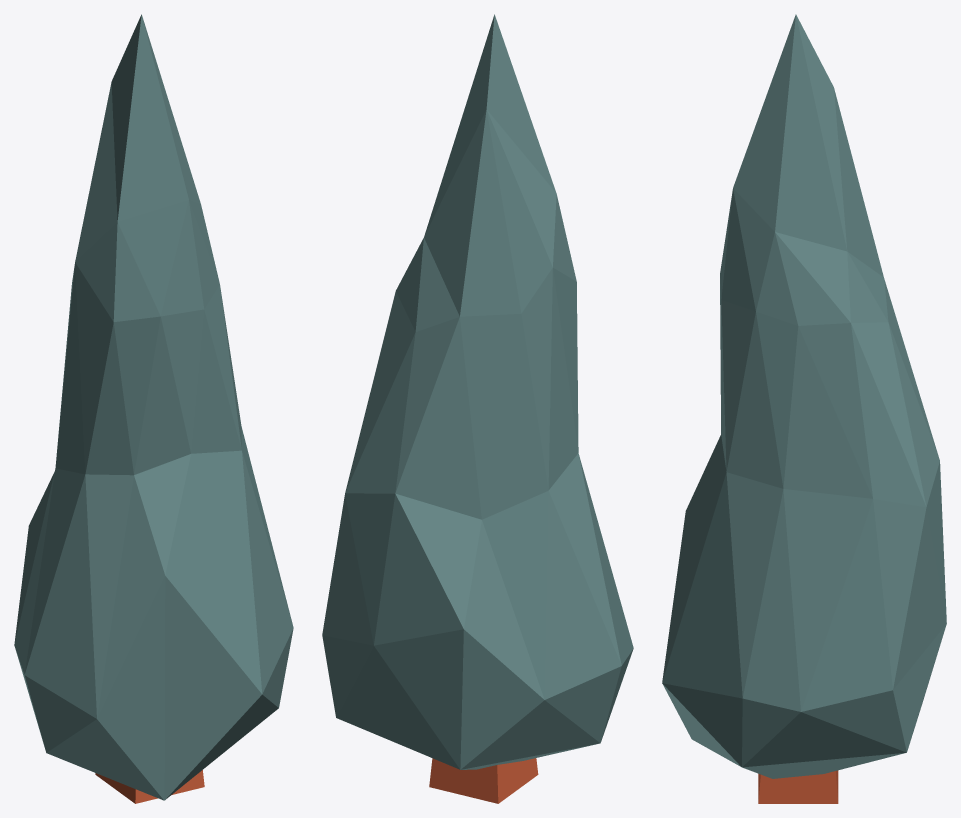
Rendered from JuniperSmall.fbx.
3 views of the same model, side by side, from view 1: azimuth 30°, elevation 25°; view 2: azimuth 150°, elevation 25°; view 3: azimuth 270°, elevation 25° (orthographic).
Parts seen in each view (by area): view 1: juniper1; view 2: juniper1; view 3: juniper1.
Boxes of the visible parts, <box> form: juniper1: <box>14,14,293,803</box>; juniper1: <box>322,14,633,803</box>; juniper1: <box>662,14,946,803</box>.
Bounding box in the file's own units: 219 × 617 × 207.
